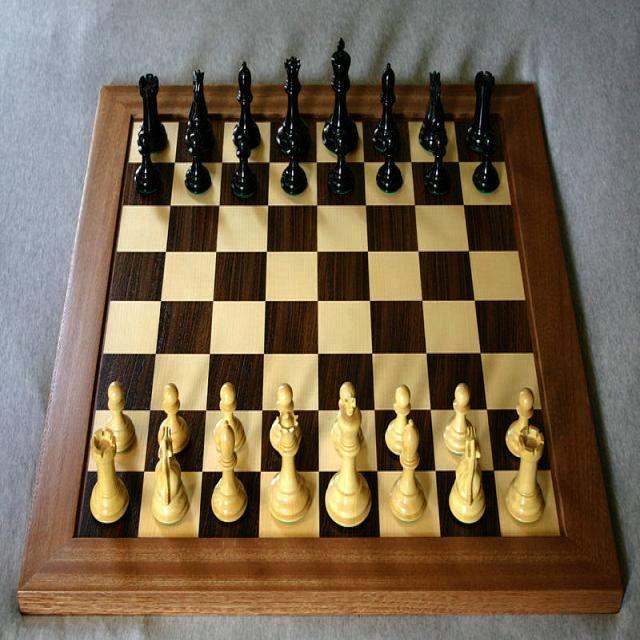chess-table-corners: (546, 515, 575, 552), (64, 516, 90, 554), (124, 105, 142, 132), (492, 110, 507, 132)
